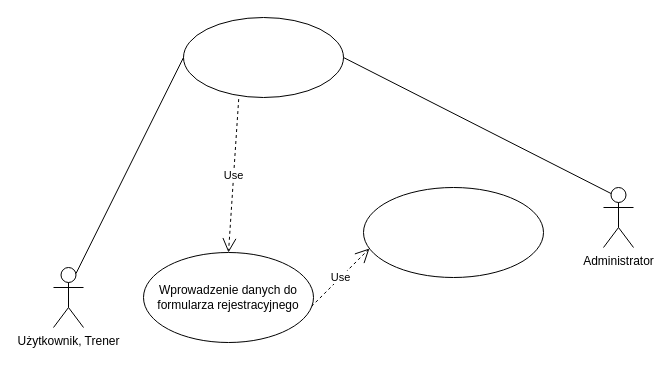
The diagram is 671 pixels wide and 366 high, and some of its shapes have lost their labels. Each missing label, with the box of its shape:
Rejestracja nowego konta: (182, 16, 344, 98)
Walidacja danych z formularza rejestracyjnego: (362, 186, 544, 278)
